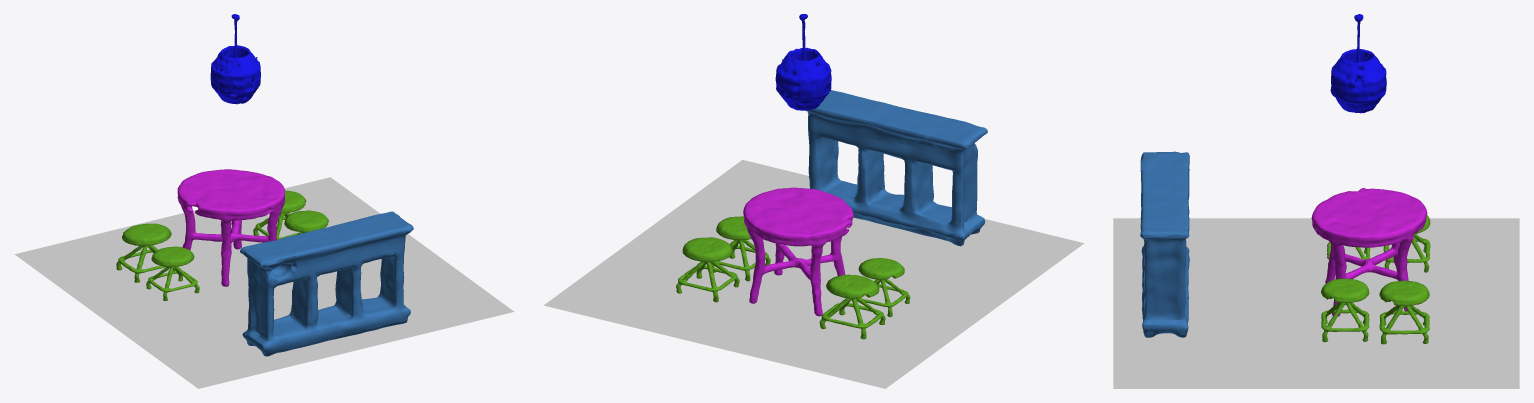
File: Diningroom2.glb
3 views of the same model, side by side, from view 1: azimuth 30°, elevation 25°; view 2: azimuth 150°, elevation 25°; view 3: azimuth 270°, elevation 25° (orthographic). The views are drawn at different scales.
Visible parts, largest first — view 1: world; view 2: world; view 3: world.
Boxes of the visible parts, bbox=[...] form: world: bbox=[15, 14, 514, 388]; world: bbox=[543, 14, 1084, 388]; world: bbox=[1113, 14, 1519, 388].
Size of the model in its own units: 3.58 by 2.77 by 3.6.
